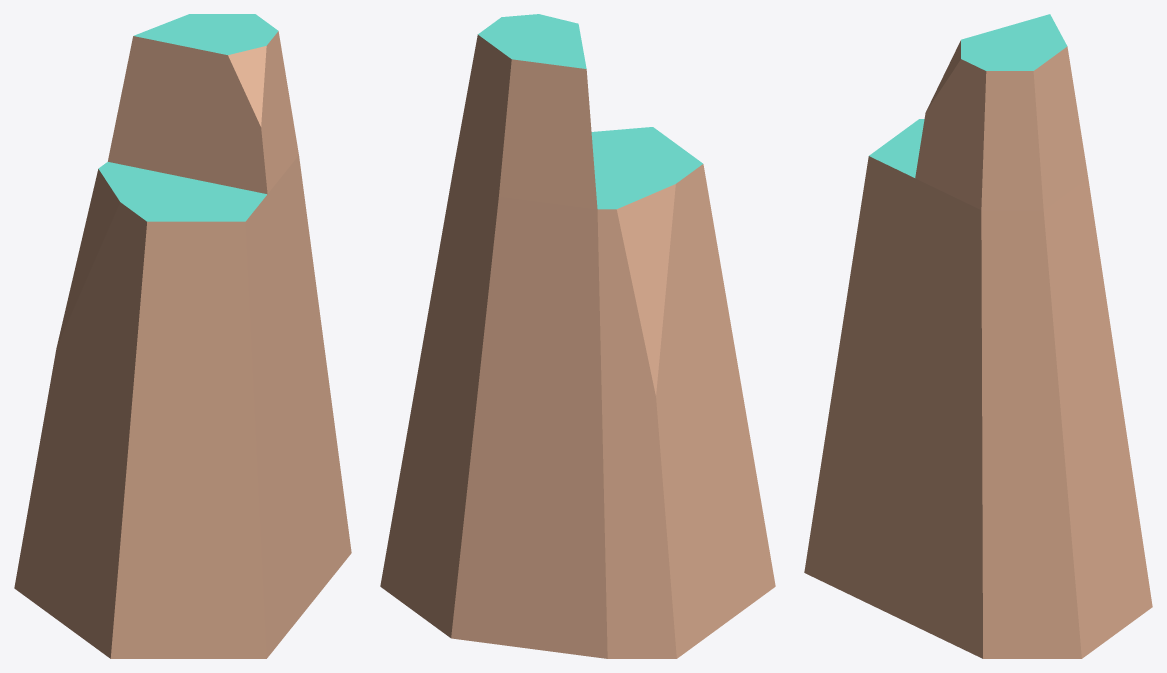
File: rock_tallI.gltf
3 views of the same model, side by side, from view 1: azimuth 30°, elevation 25°; view 2: azimuth 150°, elevation 25°; view 3: azimuth 270°, elevation 25° (orthographic). The views are drawn at different scales.
Visible parts, largest first — view 1: rock_tallI; view 2: rock_tallI; view 3: rock_tallI.
Boxes of the visible parts, box(x1,y1,x2,y2) form: rock_tallI: box(14, 14, 351, 658); rock_tallI: box(380, 14, 775, 658); rock_tallI: box(804, 14, 1152, 658).
Bounding box in the file's own units: 0.4562 × 0.8118 × 0.4644.
